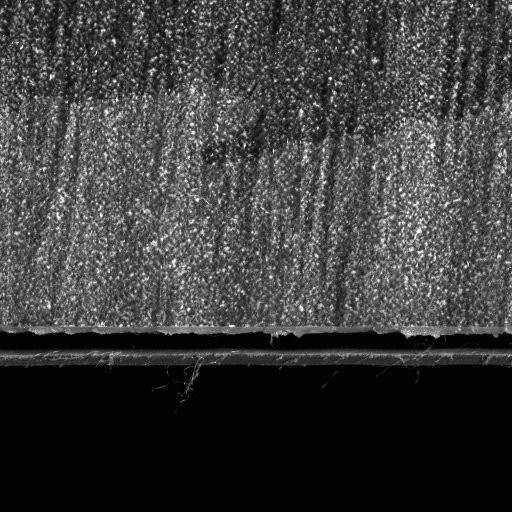kaijiao: (0, 321, 511, 373)
